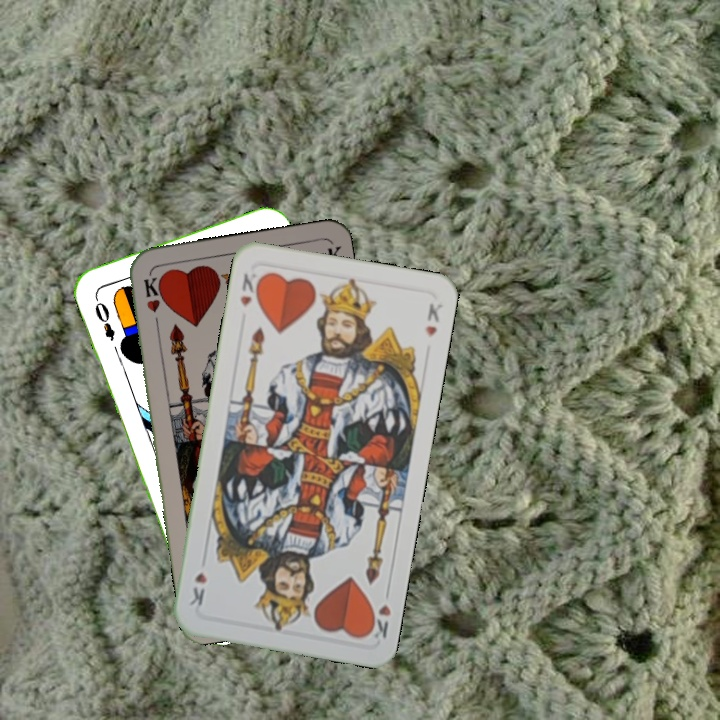EO: (90, 292, 118, 344)
HK: (363, 584, 394, 641), (139, 273, 163, 331), (236, 269, 264, 309)
